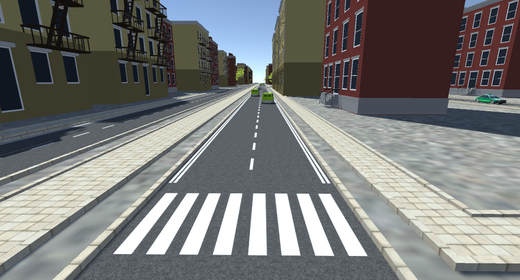centerstrip: (32, 106, 171, 153), (246, 95, 266, 172)
sidestripe: (167, 102, 244, 185), (274, 100, 333, 186)
